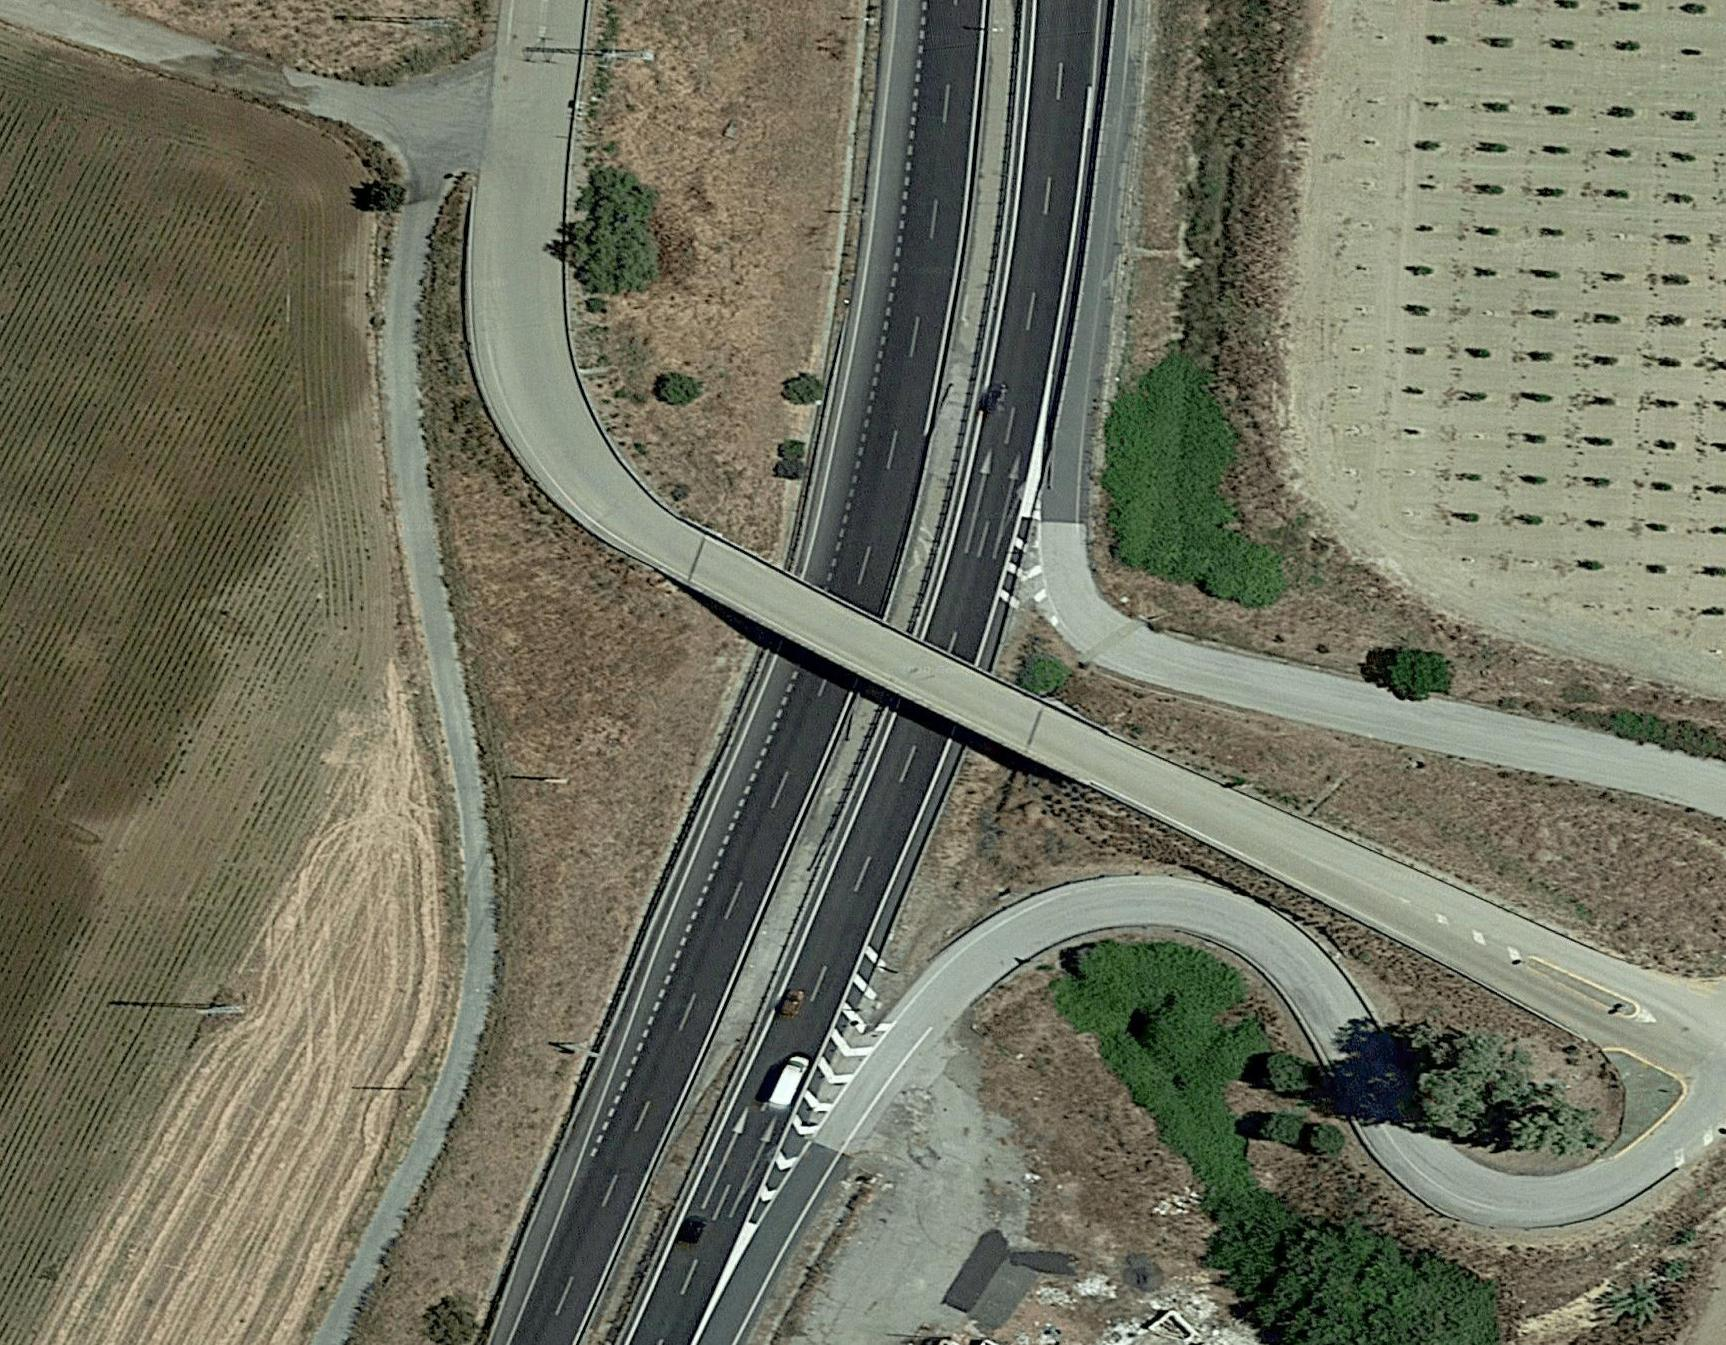bridge: (724, 518, 1037, 790)
large-vehicle: (766, 1056, 820, 1119)
small-vehicle: (976, 384, 1028, 418), (773, 986, 808, 1023)
